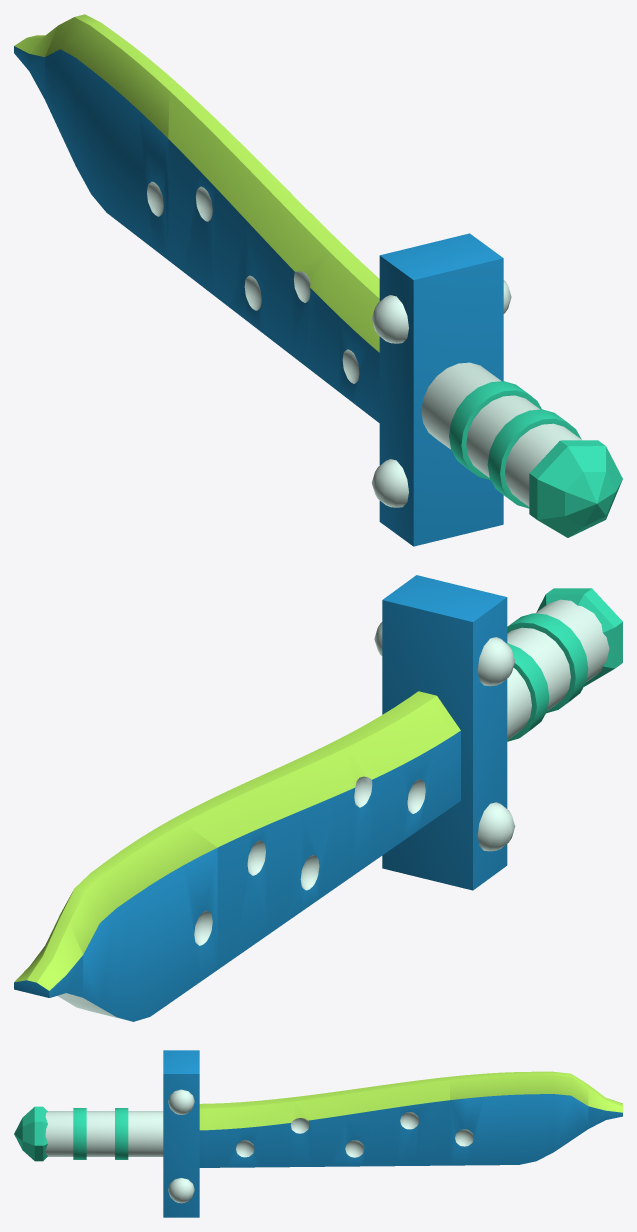
Rendered from Sword_BogironFalchion.glb.
3 views of the same model, one above another, from view 1: azimuth 30°, elevation 25°; view 2: azimuth 150°, elevation 25°; view 3: azimuth 270°, elevation 25° (orthographic). The views are drawn at different scales.
Visible parts, largest first — view 1: Sword_BogironFalchion; view 2: Sword_BogironFalchion; view 3: Sword_BogironFalchion.
Boxes of the visible parts, x1,y1,x2,y2 form: Sword_BogironFalchion: (14,14,622,546); Sword_BogironFalchion: (14,575,622,1021); Sword_BogironFalchion: (14,1050,622,1217).
Bounding box in the file's own units: 0.136 × 0.26 × 1.
1 material, 1 textured.
